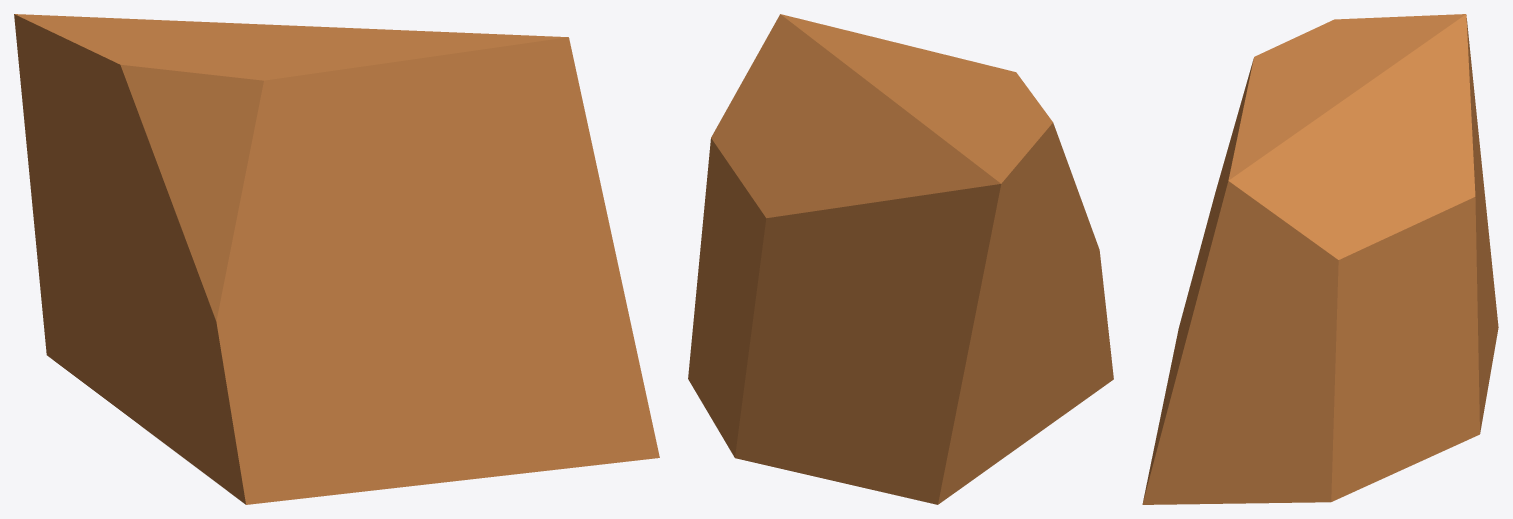
Rendered from Rubble_2.fbx.
The picture shows the model from 3 angles, left to right: view 1: azimuth 30°, elevation 25°; view 2: azimuth 150°, elevation 25°; view 3: azimuth 270°, elevation 25°; orthographic projection. The views are drawn at different scales.
Parts seen in each view (by area): view 1: 立方体.034; view 2: 立方体.034; view 3: 立方体.034.
Boxes of the visible parts, x1,y1,x2,y2 form: 立方体.034: (14,14,659,504); 立方体.034: (688,14,1113,504); 立方体.034: (1142,14,1498,504).
Size of the model in its own units: 37.21 by 32.34 by 32.38.
